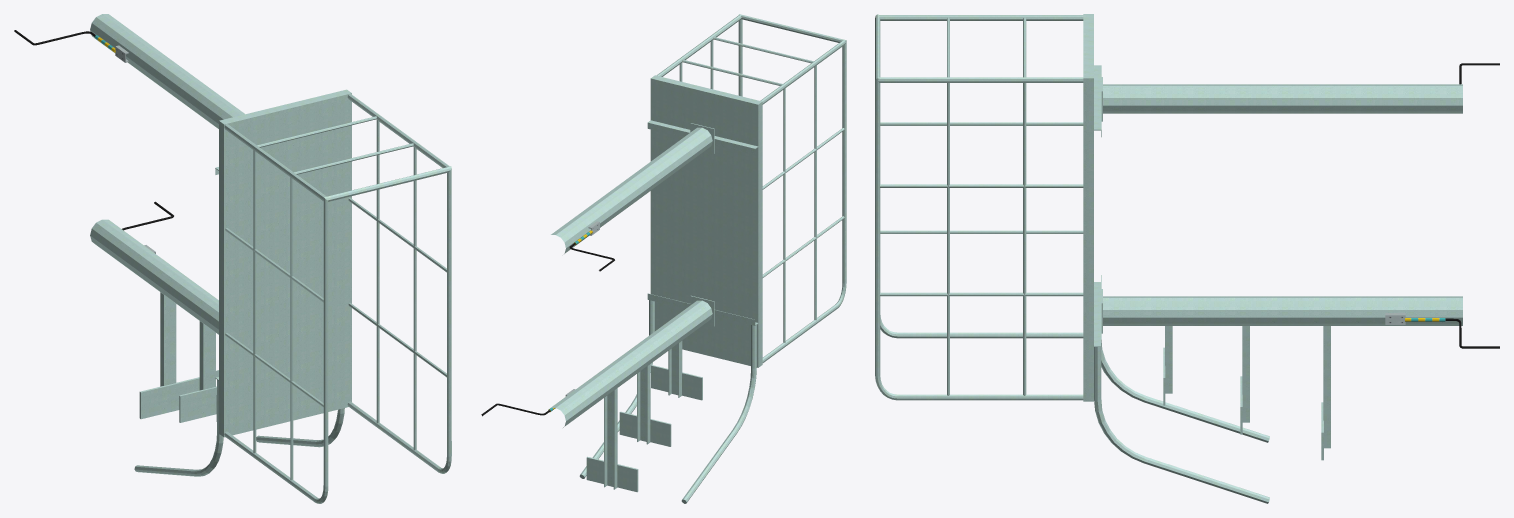
File: jg-ltpt-033-geode.glb
3 views of the same model, side by side, from view 1: azimuth 30°, elevation 25°; view 2: azimuth 150°, elevation 25°; view 3: azimuth 270°, elevation 25° (orthographic). The views are drawn at different scales.
Parts seen in each view (by area): view 1: Node; view 2: Node; view 3: Node.
Boxes of the visible parts, x1,y1,x2,y2 form: Node: (14, 14, 451, 503); Node: (481, 14, 846, 503); Node: (875, 14, 1499, 503).
Size of the model in its own units: 0.8021 by 2.24 by 2.96.
Materials: 5 (5 with a texture image).
